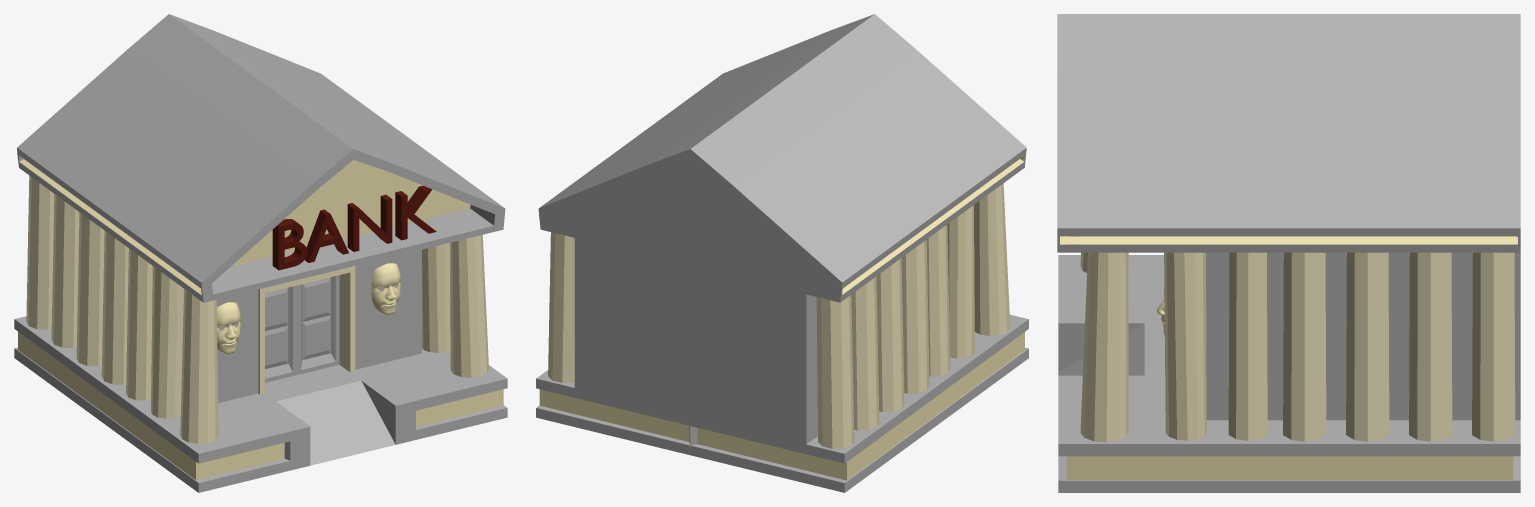
File: Bank.fbx
3 renders of one model, left to right at view 1: azimuth 30°, elevation 25°; view 2: azimuth 150°, elevation 25°; view 3: azimuth 270°, elevation 25°, orthographic. The views are drawn at different scales.
Parts seen in each view (by area): view 1: Cube; view 2: Cube; view 3: Cube.
Boxes of the visible parts, x1,y1,x2,y2 form: Cube: (14, 14, 507, 492); Cube: (536, 14, 1028, 492); Cube: (1057, 14, 1520, 492).
Size of the model in its own units: 366 by 347 by 378.
